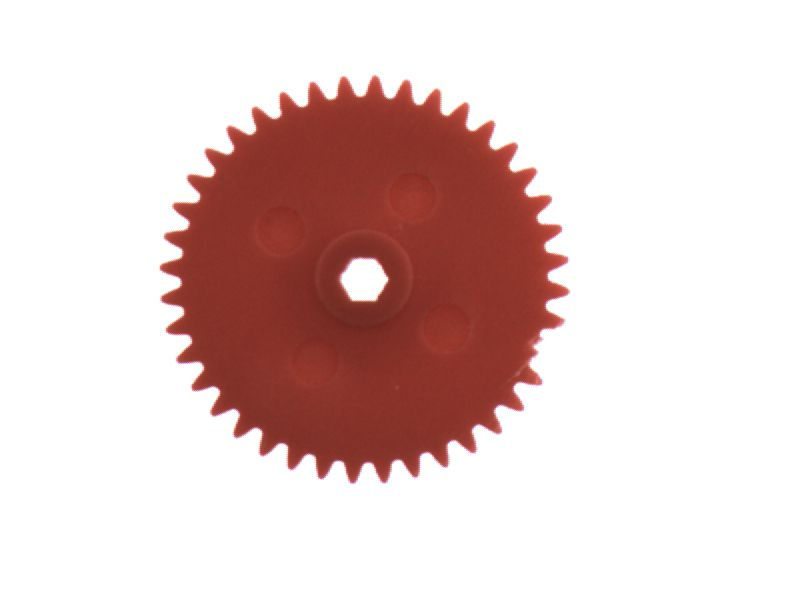defect_lack: (507, 318, 584, 382)
